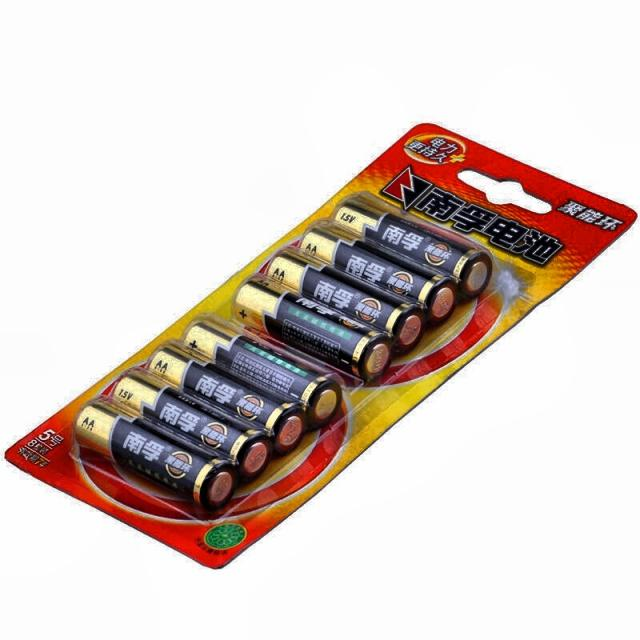Non-Valuable Waste - Batteries: (74, 315, 342, 518), (232, 192, 494, 384)
